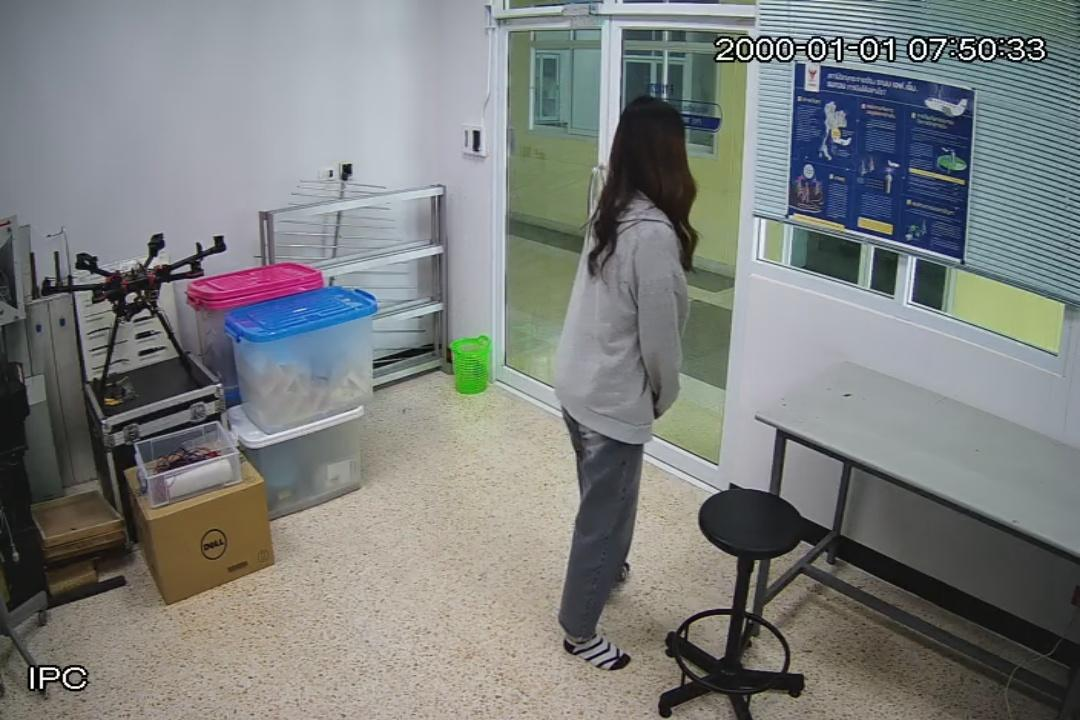normal: (548, 96, 700, 675)
